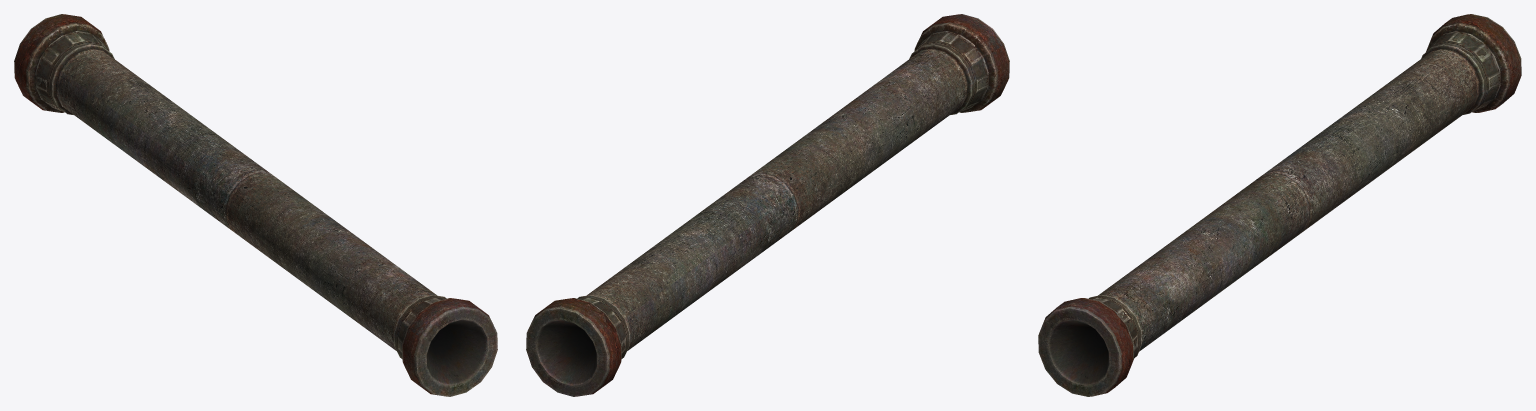
The model's file is pipe_large_long_tau.dae.
3 renders of one model, left to right at view 1: azimuth 30°, elevation 25°; view 2: azimuth 150°, elevation 25°; view 3: azimuth 330°, elevation 25°, orthographic.
Parts seen in each view (by area): view 1: polySurface3; view 2: polySurface3; view 3: polySurface3.
Boxes of the visible parts, x1=… form: polySurface3: x1=14, y1=14, x2=497, y2=396; polySurface3: x1=526, y1=14, x2=1009, y2=396; polySurface3: x1=1038, y1=14, x2=1521, y2=396.
Size of the model in its own units: 0.4907 by 0.4907 by 4.
